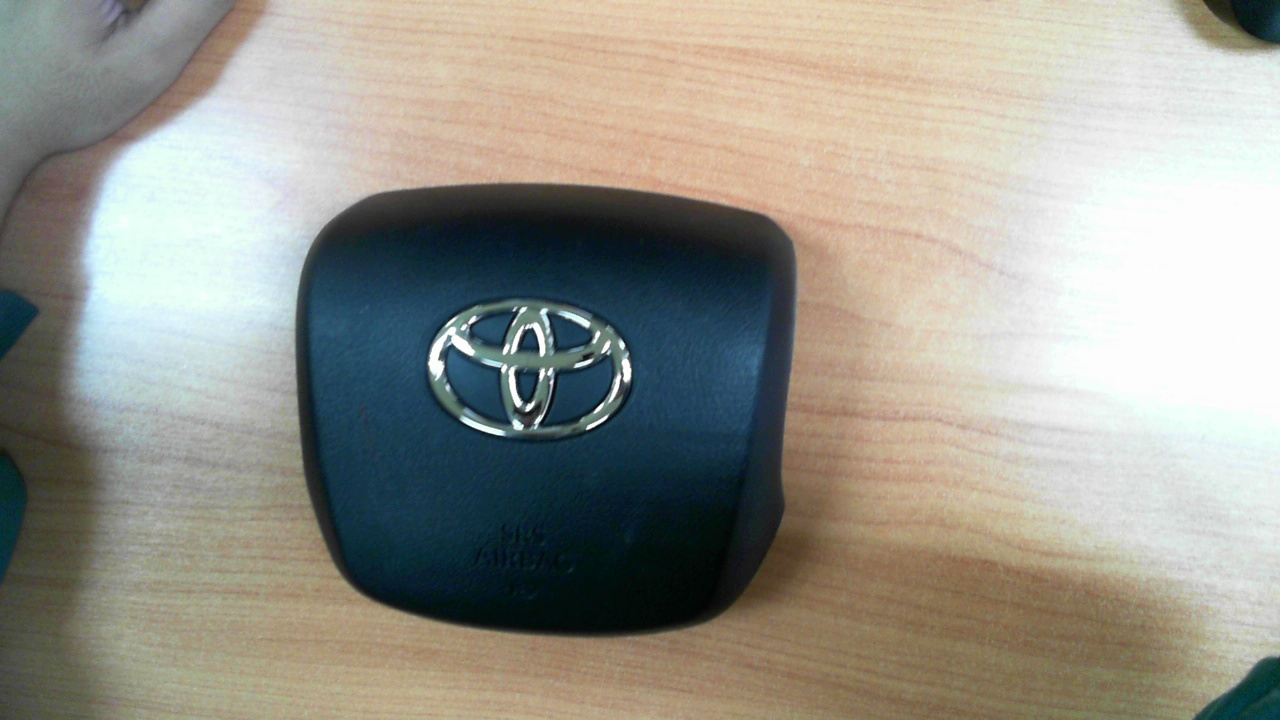Airbag: (294, 182, 797, 639)
Toyota: (428, 299, 633, 441)
